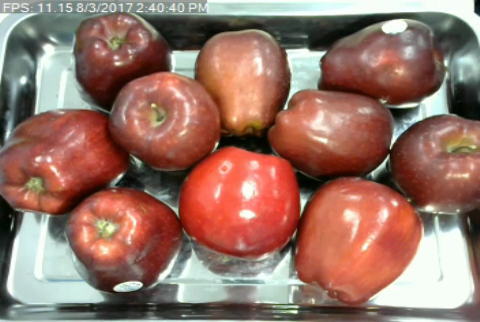Apple: (290, 174, 422, 308), (175, 143, 304, 262), (1, 104, 131, 215), (63, 186, 185, 296), (265, 85, 396, 181), (315, 14, 447, 109), (107, 68, 222, 173), (189, 26, 296, 135), (71, 9, 173, 112), (386, 111, 480, 216)
